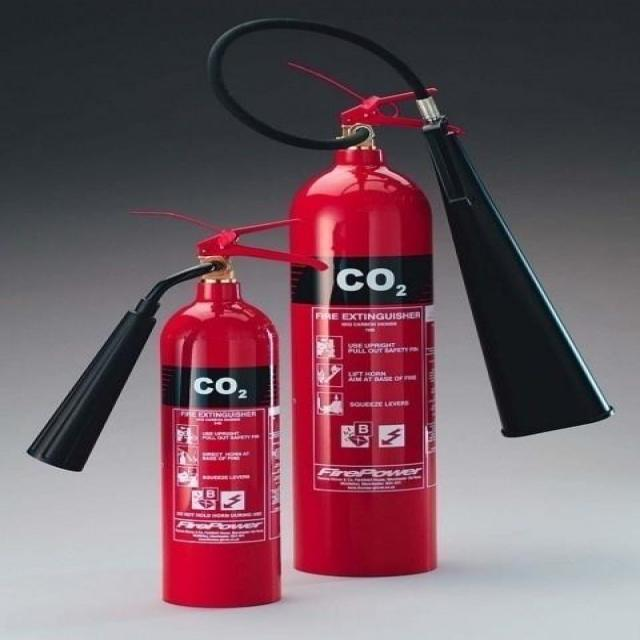fire_extinguisher: (200, 10, 620, 581), (19, 211, 332, 612)
